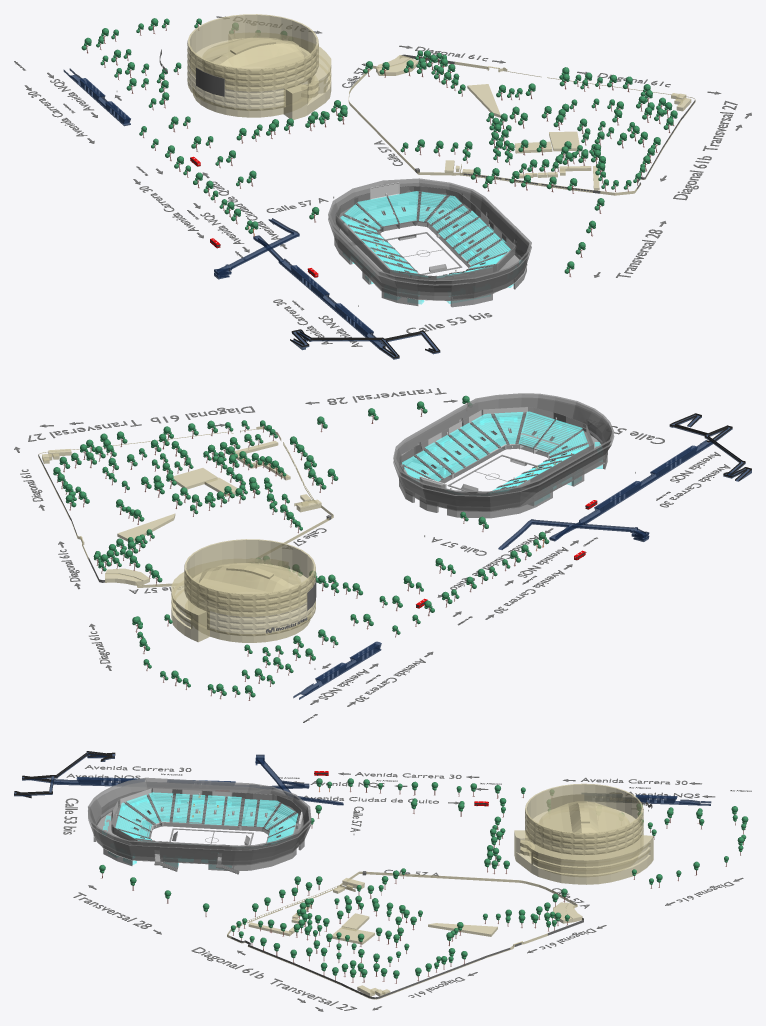
3 views of the same model, one above another, from view 1: azimuth 30°, elevation 25°; view 2: azimuth 150°, elevation 25°; view 3: azimuth 270°, elevation 25° (orthographic). The views are drawn at different scales.
Parts seen in each view (by area): view 1: Circle, nivel3, Text.006, planta2, suelorender2, 14393, Cube.005, Cube, plantabaja, Cube.003, Cube.016, Cube.014 (+4 smaller); view 2: Circle, nivel3, planta2, Text.006, suelorender2, 14393, Cube, plantabaja, Cube.001, Cube.005, Cube.014, Cube.015 (+5 smaller); view 3: Circle, nivel3, planta2, Text.006, suelorender2, 14393, plantabaja, Cube.005, piso1.001, Cube, Cube.014, Plane.025 (+6 smaller).
Boxes of the visible parts, box(x1,y1,x2,y2) form: Circle: box(187, 14, 331, 119); nivel3: box(328, 178, 531, 295); Text.006: box(14, 17, 737, 346); planta2: box(328, 183, 531, 300); suelorender2: box(340, 205, 527, 300); 14393: box(214, 219, 440, 359); Cube.005: box(335, 186, 515, 283); Cube: box(354, 209, 494, 278); plantabaja: box(334, 201, 526, 307); Cube.003: box(342, 190, 463, 239); Cube.016: box(290, 329, 440, 358); Cube.014: box(63, 68, 130, 126); Circle: box(171, 539, 315, 642); nivel3: box(393, 393, 614, 506); planta2: box(393, 398, 614, 510); Text.006: box(20, 388, 730, 722); suelorender2: box(404, 419, 607, 510); 14393: box(499, 414, 751, 549); Cube: box(424, 429, 561, 487); plantabaja: box(399, 416, 607, 518); Cube.001: box(470, 412, 587, 461); Cube.005: box(399, 406, 593, 494); Cube.014: box(293, 641, 381, 699); Cube.015: box(498, 519, 649, 549); Circle: box(514, 783, 653, 884); nivel3: box(88, 777, 311, 860); planta2: box(88, 782, 311, 864); Text.006: box(63, 765, 751, 1010); suelorender2: box(93, 801, 298, 863); 14393: box(14, 752, 343, 805); plantabaja: box(93, 800, 304, 870); Cube.005: box(111, 788, 303, 848); piso1.001: box(102, 816, 301, 864); Cube: box(162, 795, 244, 830); Cube.014: box(582, 793, 711, 805); Plane.025: box(340, 871, 577, 949).
Size of the model in its own units: 651 by 56.32 by 794.
